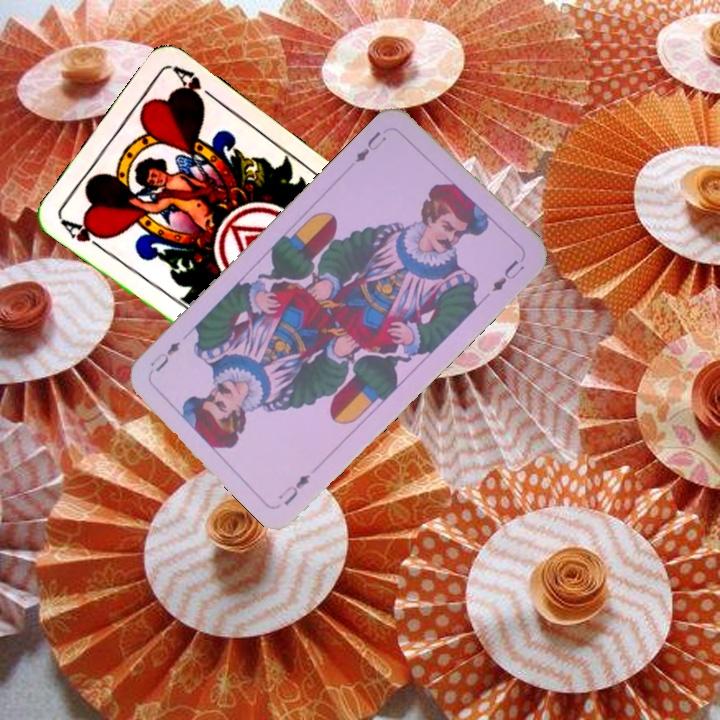EU: (274, 470, 313, 509), (351, 126, 389, 166)
HA: (56, 215, 112, 255)
